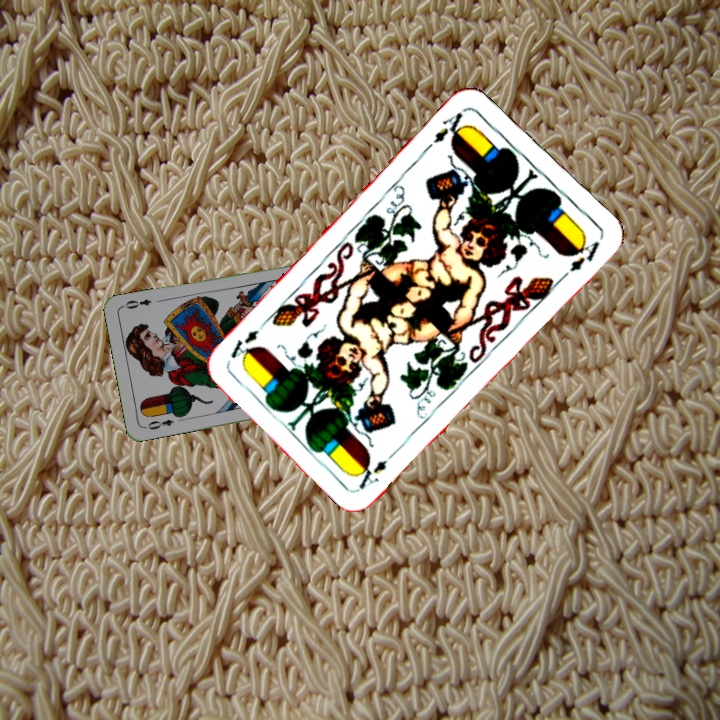EA: (421, 108, 470, 154), (355, 444, 401, 492)
EO: (141, 415, 176, 432)
